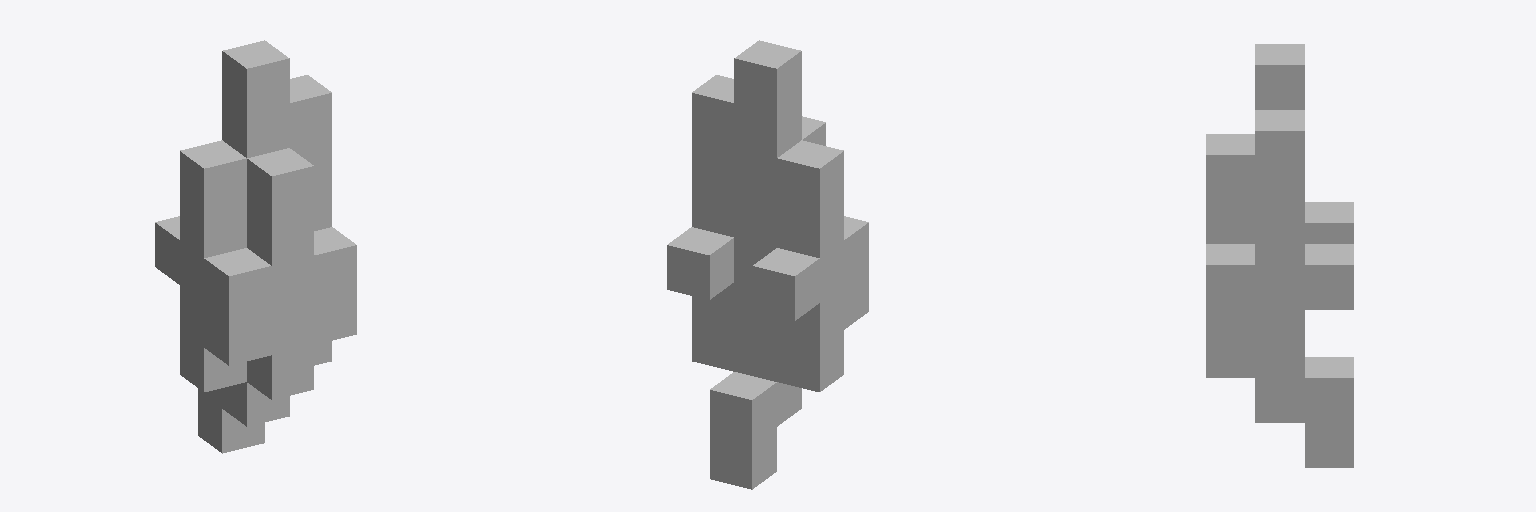
Rendered from Torch_01.obj.
3 renders of one model, left to right at view 1: azimuth 30°, elevation 25°; view 2: azimuth 150°, elevation 25°; view 3: azimuth 270°, elevation 25°, orthographic.
Parts seen in each view (by area): view 1: Torch_01; view 2: Torch_01; view 3: Torch_01.
Part boxes in pixels (bbox=[...]): Torch_01: bbox=[155, 40, 356, 453]; Torch_01: bbox=[667, 40, 868, 489]; Torch_01: bbox=[1206, 44, 1353, 467].
Size of the model in its own units: 0.3 by 0.9 by 0.3.